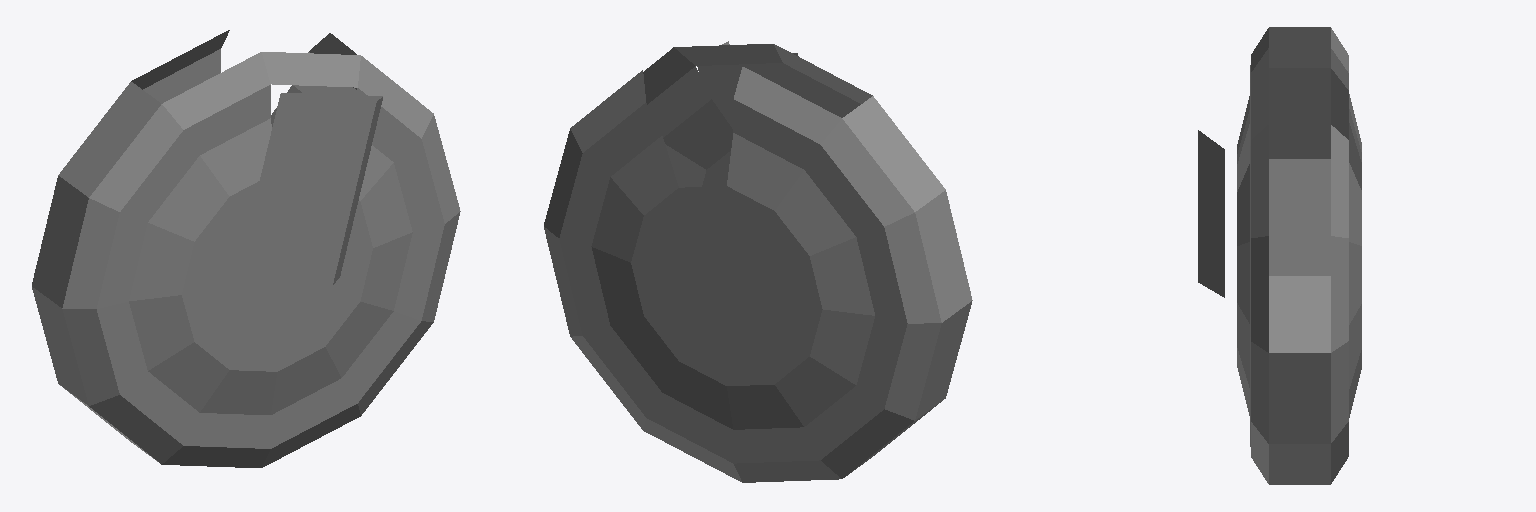
The model's file is llantaD.obj.
3 renders of one model, left to right at view 1: azimuth 30°, elevation 25°; view 2: azimuth 150°, elevation 25°; view 3: azimuth 270°, elevation 25°, orthographic.
Visible parts, largest first — view 1: Object001; view 2: Object001; view 3: Object001.
Boxes of the visible parts, x1,y1,x2,y2 form: Object001: [32, 30, 460, 467]; Object001: [544, 41, 972, 482]; Object001: [1198, 27, 1361, 484].
Bounding box in the file's own units: 3.42 × 3.42 × 1.23.